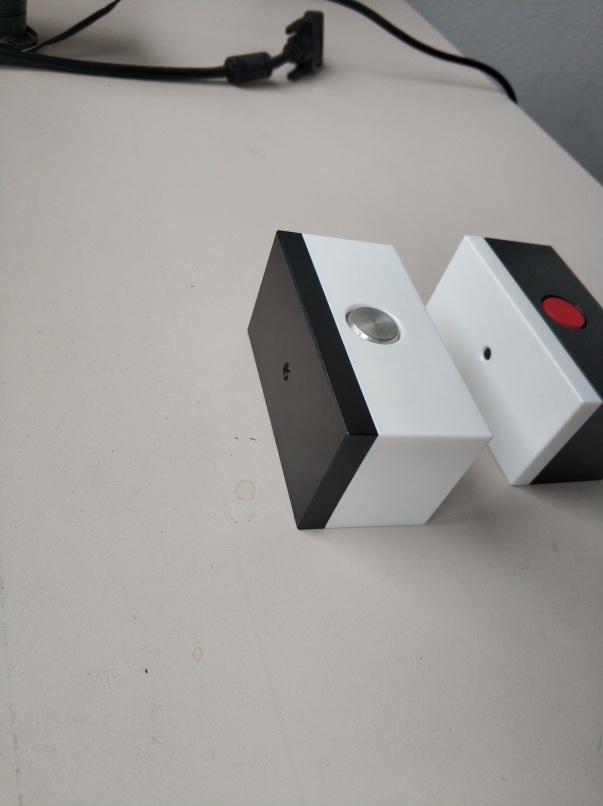black+white+silver: (239, 224, 496, 536)
white+black+red: (420, 233, 603, 490)
